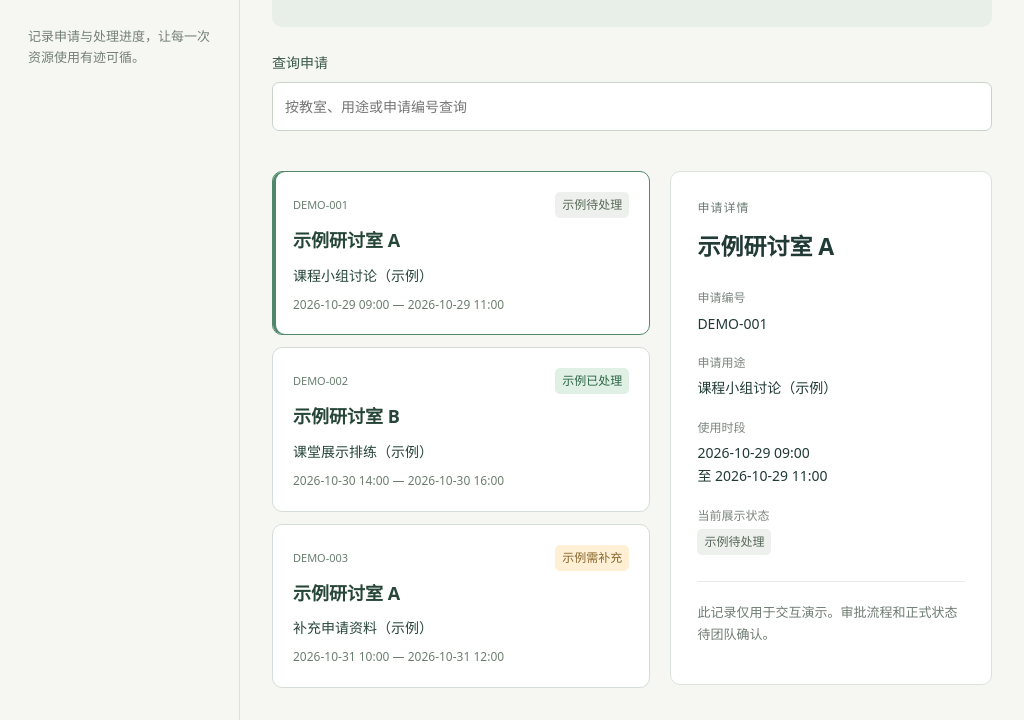
Test case: M2 workspace observable behavior › labels synthetic data, loads applications and opens a selected detail
(page scrolled)
Click the button with class "record-card" that starts with "DEMO-002": click(321, 381) [272,347,650,512]
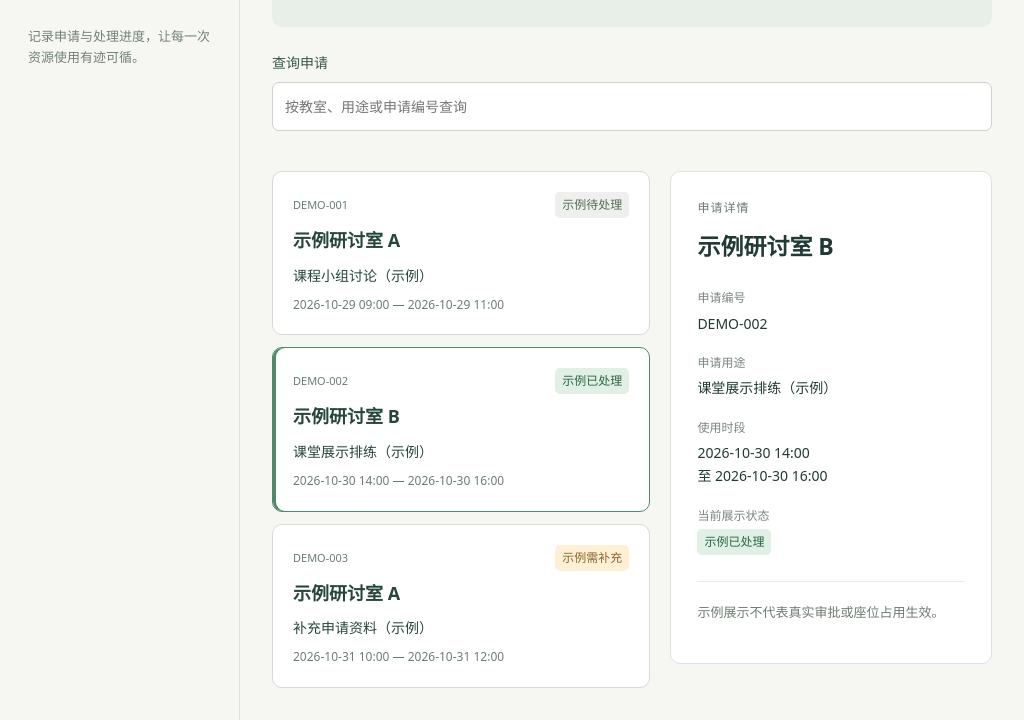
Expected: the element named "申请详情" shows "DEMO-002", [697,314,768,333]
